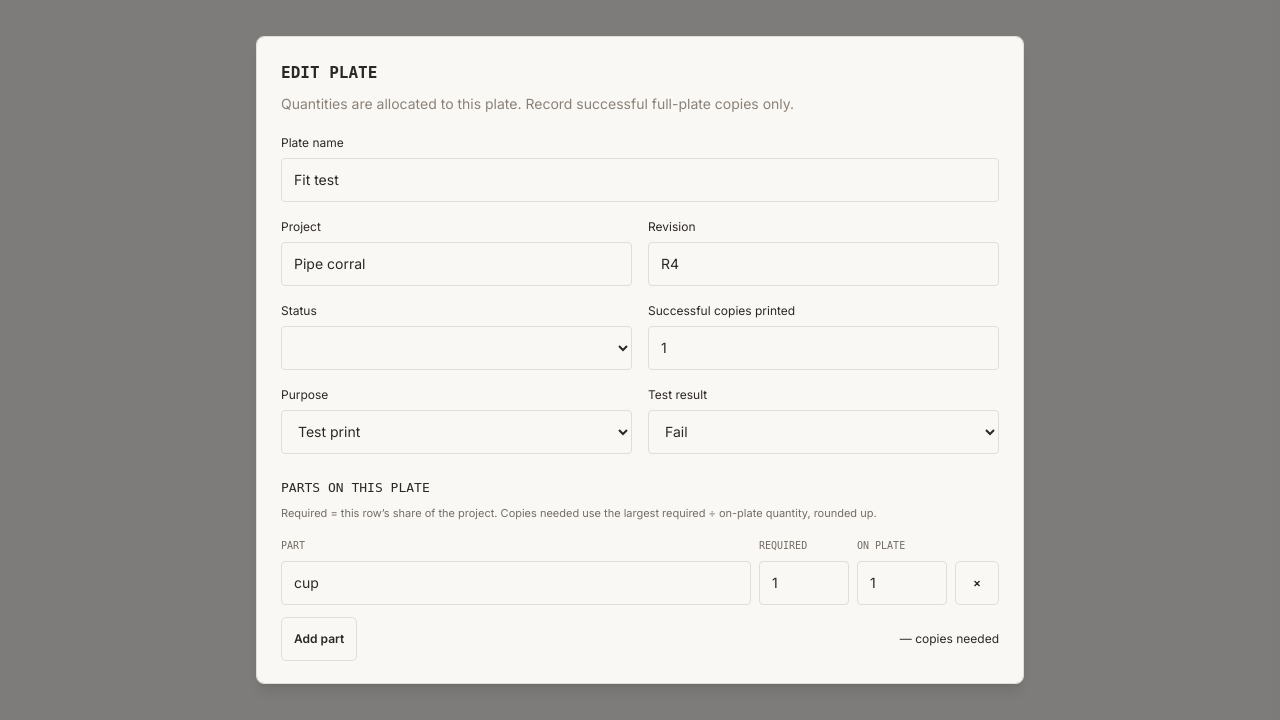
Test: clears testResult when purpose leaves test
This screenshot has width=1280, height=720.
Expected: the dropdown labelled "Test result" shows "Fail", left=648, top=410, right=999, bottom=454
Select "Production" in the dropdown labelled "Purpose" at (456, 432), box left=281, top=410, right=632, bottom=454
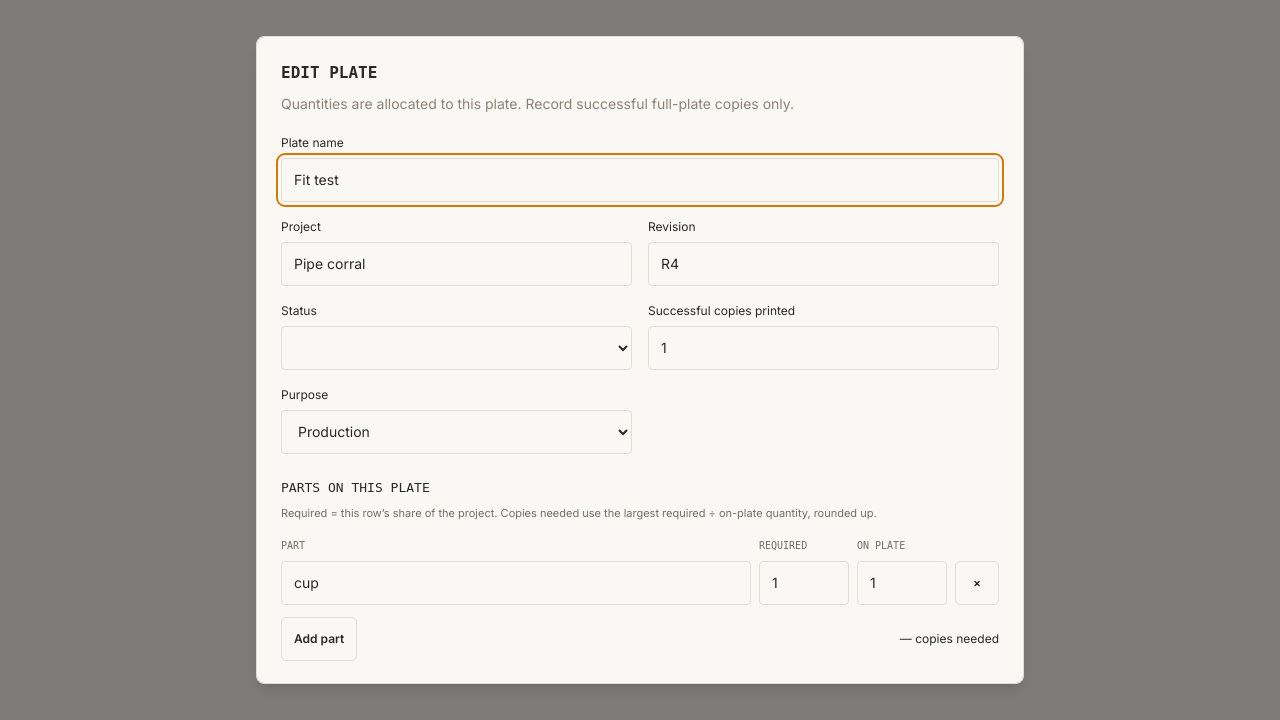
Expected: the label labelled "Test result" is gone
